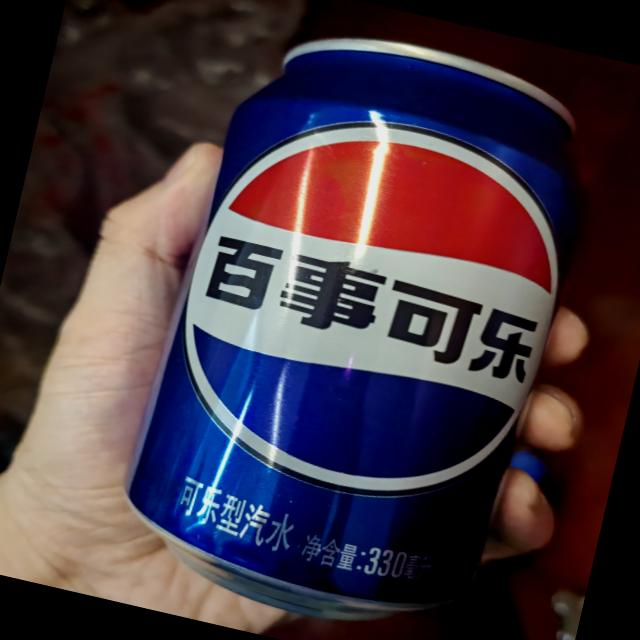can: (101, 0, 609, 640)
